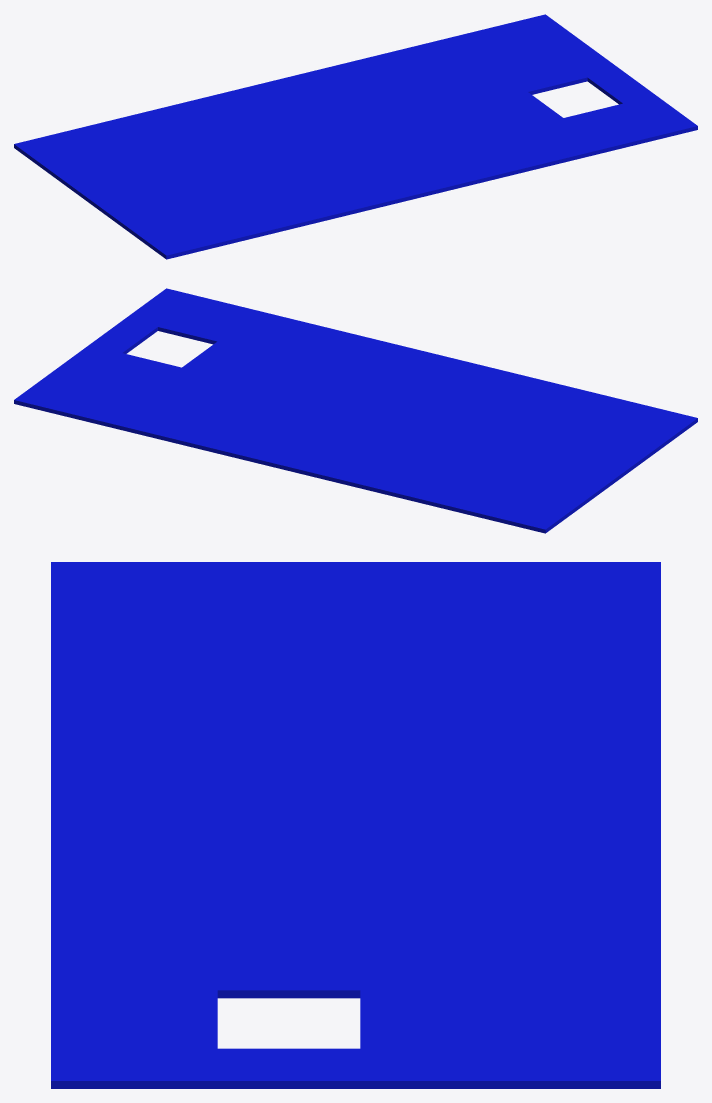
Rendered from FloorWithOpening.fbx.
3 views of the same model, one above another, from view 1: azimuth 30°, elevation 25°; view 2: azimuth 150°, elevation 25°; view 3: azimuth 270°, elevation 25° (orthographic). The views are drawn at different scales.
Visible parts, largest first — view 1: FloorWithOpening; view 2: FloorWithOpening; view 3: FloorWithOpening.
Part boxes in pixels (left/top/right/bottom): FloorWithOpening: left=14, top=14, right=697, bottom=259; FloorWithOpening: left=14, top=288, right=697, bottom=533; FloorWithOpening: left=51, top=562, right=660, bottom=1088.
Bounding box in the file's own units: 1829 × 13 × 909.
